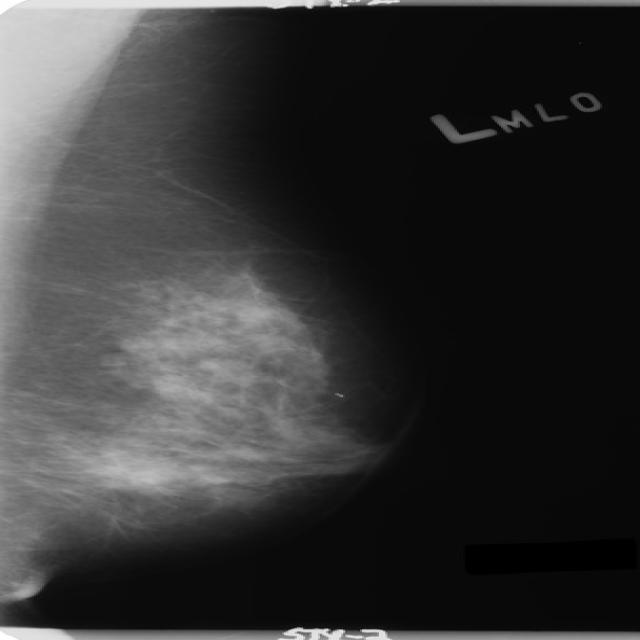tumour: (95, 350, 126, 366)
